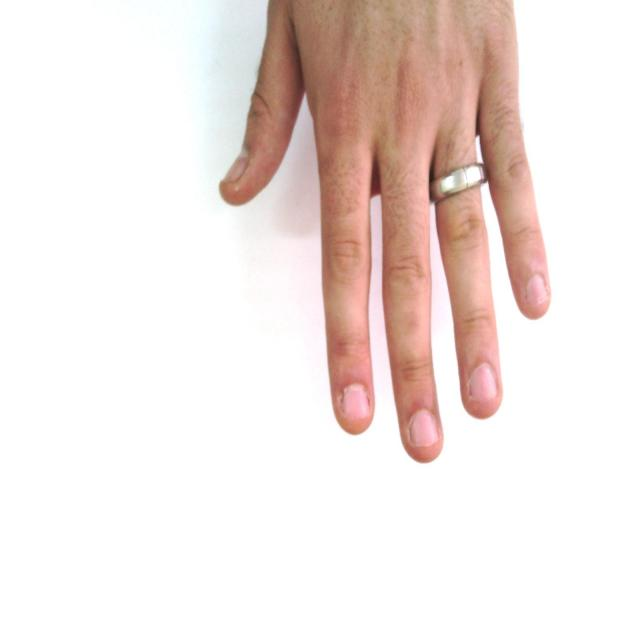others: (210, 1, 556, 470)
